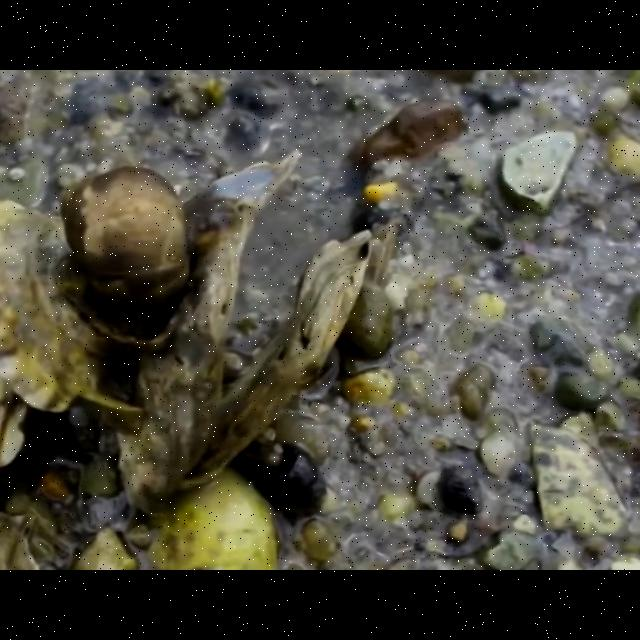Oyster-Closed: (0, 199, 116, 413)
Oyster-Open: (114, 149, 376, 515)
